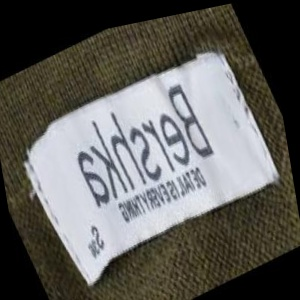bershka: (165, 36, 239, 110)
